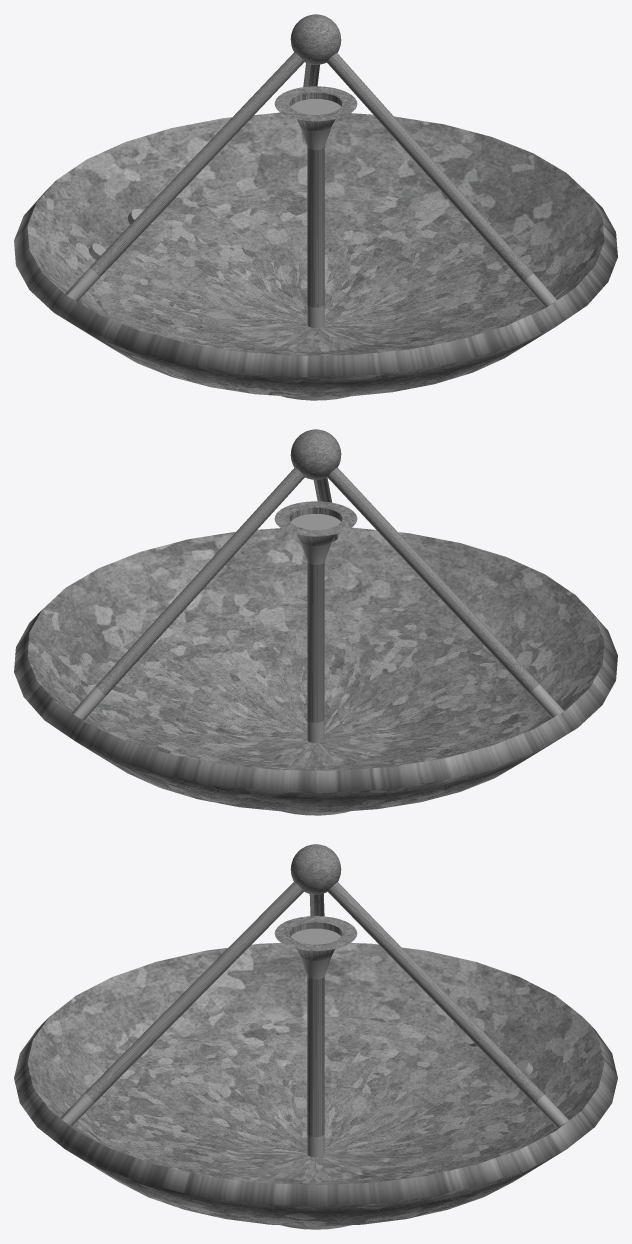
The model's file is Satelliteblend.fbx.
3 views of the same model, one above another, from view 1: azimuth 30°, elevation 25°; view 2: azimuth 150°, elevation 25°; view 3: azimuth 270°, elevation 25° (orthographic).
Parts seen in each view (by area): view 1: Cylinder.004; view 2: Cylinder.004; view 3: Cylinder.004.
Part boxes in pixels (x1,y1,x2,y2): Cylinder.004: (14, 14, 617, 400); Cylinder.004: (14, 429, 617, 815); Cylinder.004: (14, 844, 617, 1229).
Size of the model in its own units: 334 by 217 by 334.
